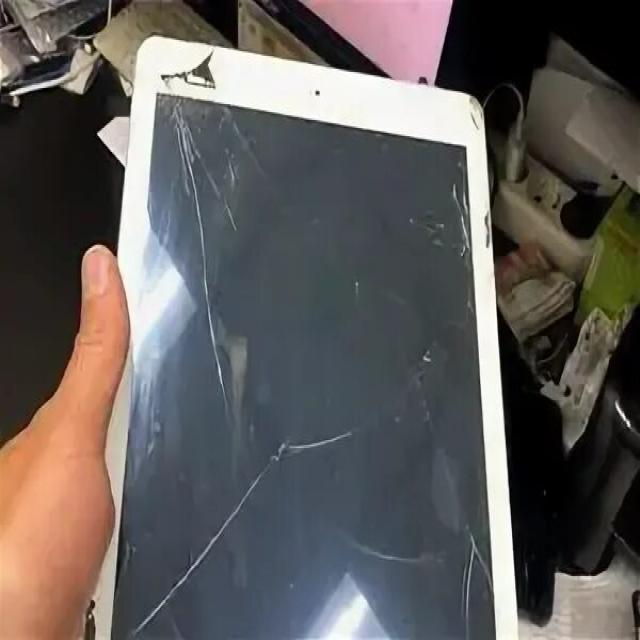Crack: (102, 408, 340, 640), (143, 35, 278, 267), (409, 106, 472, 263), (439, 517, 507, 636)
